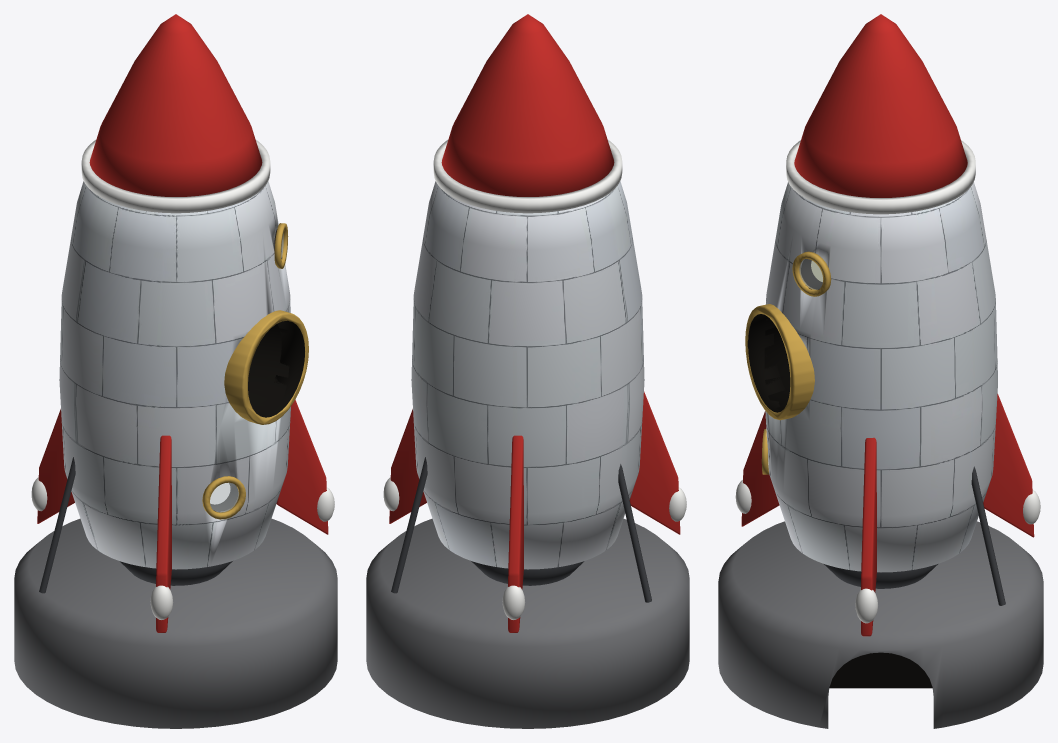
Rendered from rocket.glb.
The picture shows the model from 3 angles, left to right: view 1: azimuth 30°, elevation 25°; view 2: azimuth 150°, elevation 25°; view 3: azimuth 270°, elevation 25°; orthographic projection.
Parts seen in each view (by area): view 1: hull, pad, red, white, hole-frame.004, nozzle, brass.001, panes; view 2: hull, pad, red, white, nozzle; view 3: hull, pad, red, white, hole-frame.004, nozzle, brass.001, panes.
Boxes of the visible parts, x1=… form: hull: x1=59, y1=181, x2=290, y2=569; pad: x1=14, y1=518, x2=337, y2=728; red: x1=37, y1=14, x2=328, y2=632; white: x1=31, y1=140, x2=334, y2=619; hole-frame.004: x1=224, y1=310, x2=308, y2=424; nozzle: x1=39, y1=457, x2=232, y2=593; brass.001: x1=202, y1=223, x2=288, y2=519; panes: x1=210, y1=233, x2=283, y2=512; hull: x1=411, y1=181, x2=644, y2=569; pad: x1=366, y1=518, x2=689, y2=728; red: x1=389, y1=14, x2=680, y2=632; white: x1=383, y1=140, x2=686, y2=619; nozzle: x1=391, y1=457, x2=651, y2=602; hull: x1=764, y1=182, x2=997, y2=572; pad: x1=718, y1=521, x2=1043, y2=728; red: x1=741, y1=14, x2=1034, y2=636; white: x1=735, y1=140, x2=1040, y2=623; hole-frame.004: x1=745, y1=304, x2=814, y2=420; nozzle: x1=824, y1=466, x2=1005, y2=605; brass.001: x1=761, y1=251, x2=831, y2=474; panes: x1=768, y1=259, x2=822, y2=467.
Size of the model in its own units: 7.05 by 15 by 6.8.
Materials: 12 (1 with a texture image).
